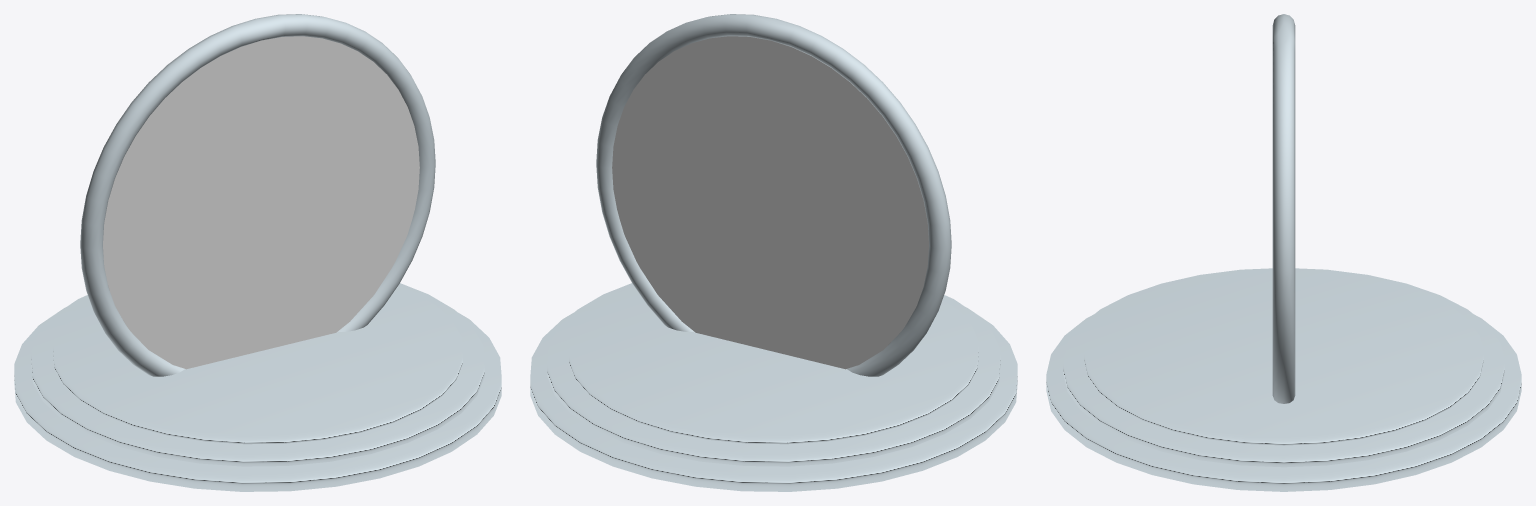
The model's file is Portal.dae.
3 renders of one model, left to right at view 1: azimuth 30°, elevation 25°; view 2: azimuth 150°, elevation 25°; view 3: azimuth 270°, elevation 25°, orthographic. The views are drawn at different scales.
Visible parts, largest first — view 1: Teleporter, Particles; view 2: Teleporter, Particles; view 3: Teleporter.
Boxes of the visible parts, x1=… form: Teleporter: x1=14, y1=14, x2=501, y2=491; Particles: x1=103, y1=36, x2=419, y2=369; Teleporter: x1=530, y1=14, x2=1017, y2=491; Particles: x1=612, y1=36, x2=928, y2=369; Teleporter: x1=1046, y1=14, x2=1521, y2=491.
Size of the model in its own units: 11.74 by 11.74 by 9.8.
2 materials, 1 textured.
